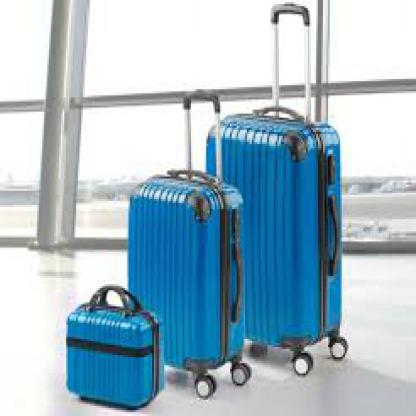maleta: (200, 98, 360, 384), (120, 154, 264, 400), (59, 280, 178, 414)
